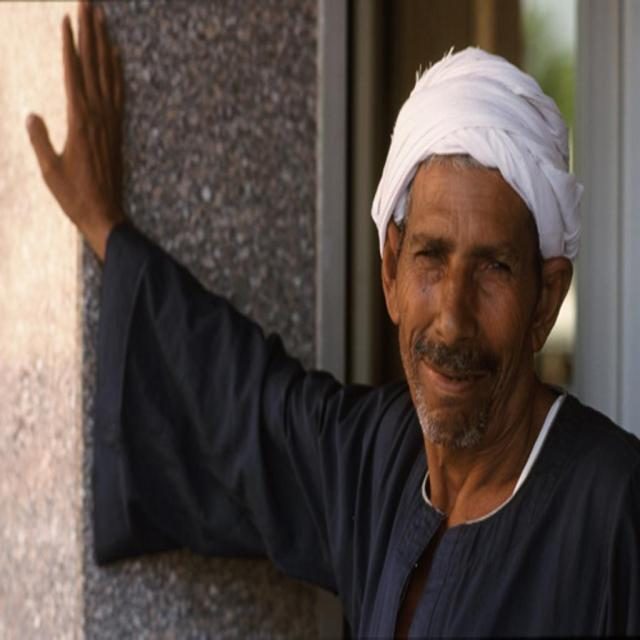Face: (398, 165, 542, 445)
